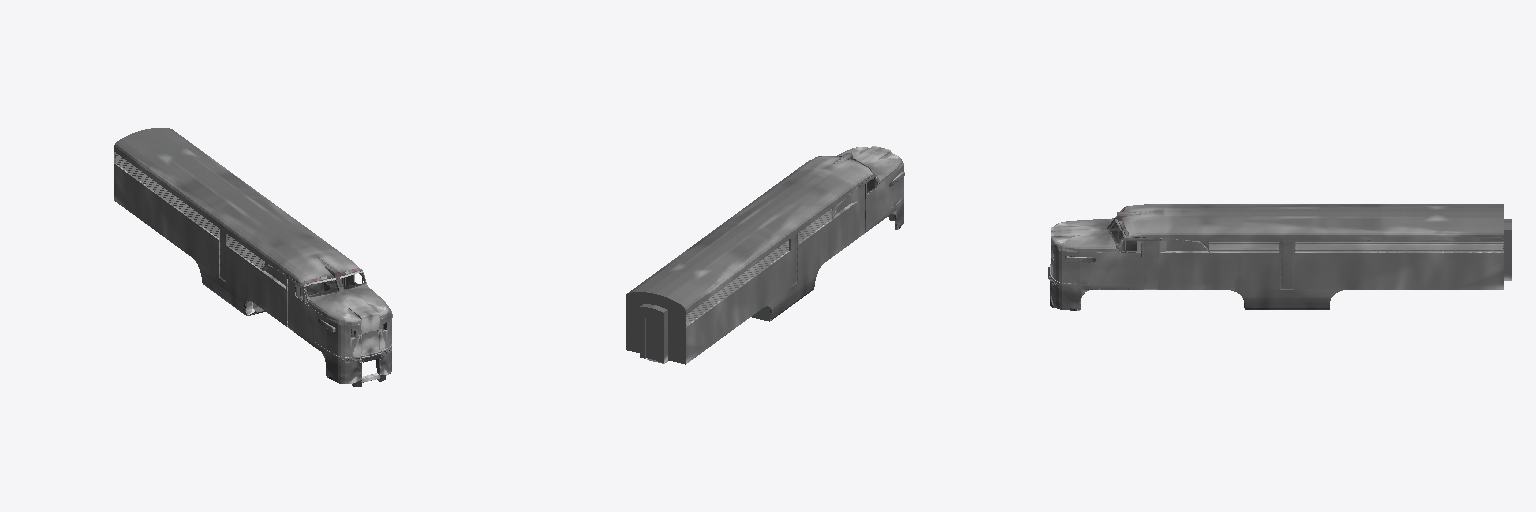
The picture shows the model from 3 angles: view 1: azimuth 30°, elevation 25°; view 2: azimuth 150°, elevation 25°; view 3: azimuth 270°, elevation 25°; orthographic projection.
Visible parts, largest first — view 1: Plane.003; view 2: Plane.003; view 3: Plane.003.
Boxes of the visible parts, x1,y1,x2,y2 form: Plane.003: [114, 128, 392, 386]; Plane.003: [626, 146, 904, 364]; Plane.003: [1048, 204, 1511, 310].
Bounding box in the file's own units: 12.89 × 17.85 × 85.26.
Materials: 1 (1 with a texture image).